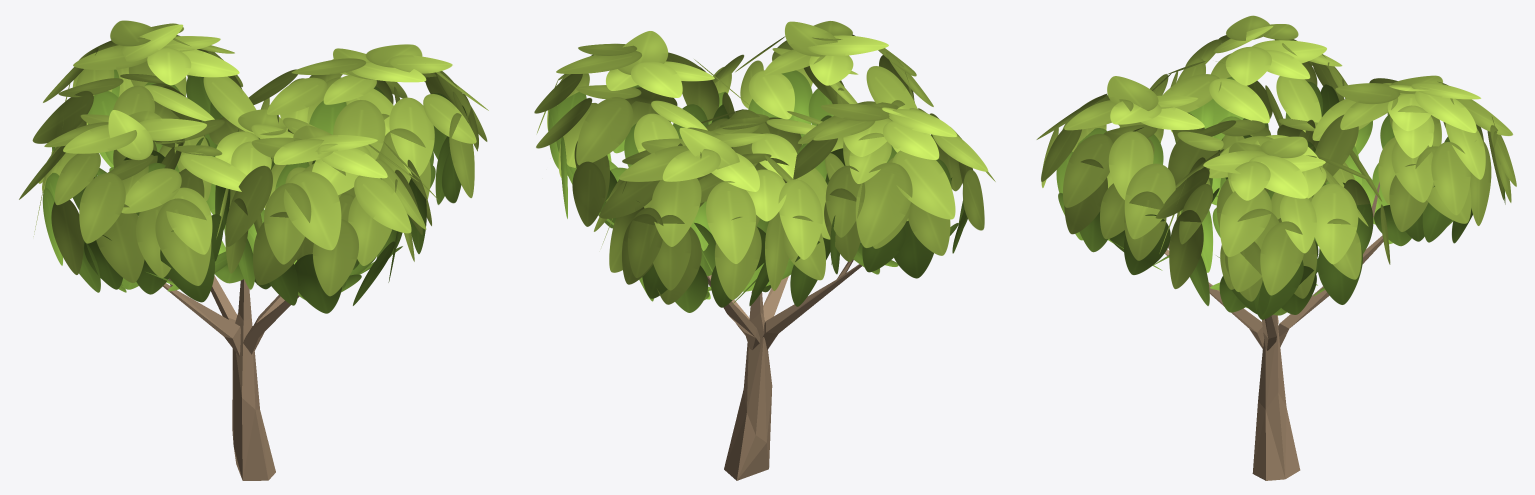
Rendered from tree_broad_lime_lod1.glb.
The picture shows the model from 3 angles, left to right: view 1: azimuth 30°, elevation 25°; view 2: azimuth 150°, elevation 25°; view 3: azimuth 270°, elevation 25°; orthographic projection. The views are drawn at different scales.
Parts seen in each view (by area): view 1: foliage, trunk; view 2: foliage, trunk; view 3: foliage, trunk.
Boxes of the visible parts, left/top/right/bottom form: foliage: left=19, top=20, right=488, bottom=313; trunk: left=163, top=275, right=299, bottom=480; foliage: left=534, top=21, right=995, bottom=312; trunk: left=707, top=259, right=861, bottom=480; foliage: left=1036, top=15, right=1516, bottom=319; trunk: left=1164, top=182, right=1383, bottom=480.
Size of the model in its own units: 6.61 by 5.6 by 6.55.
3 materials, 2 textured.
